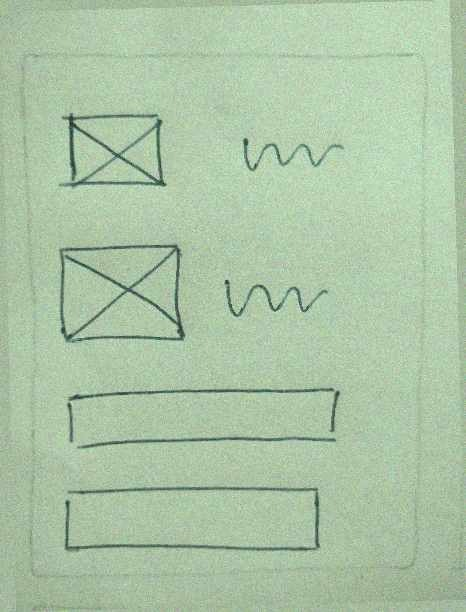image: (49, 233, 192, 357), (49, 99, 177, 204)
text: (207, 264, 340, 335), (225, 120, 358, 190)
text_input: (61, 373, 351, 462), (53, 474, 343, 563)
